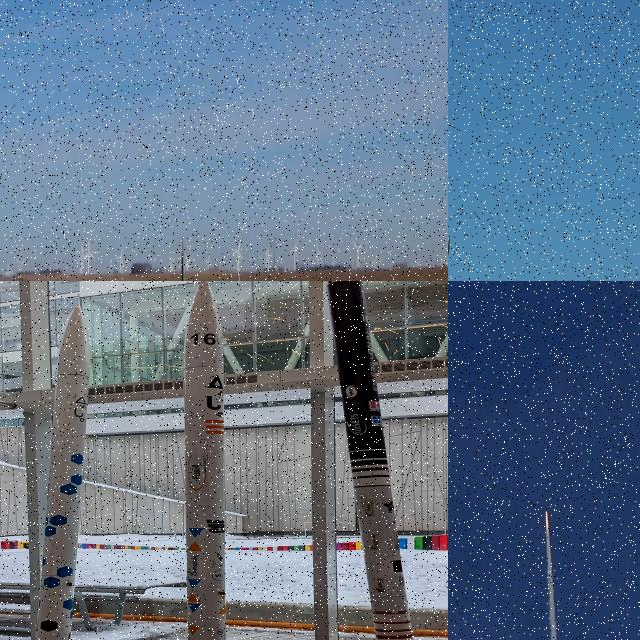Rocket: (326, 281, 414, 640), (35, 302, 91, 640), (183, 281, 227, 640), (181, 251, 183, 281), (546, 508, 547, 513)
